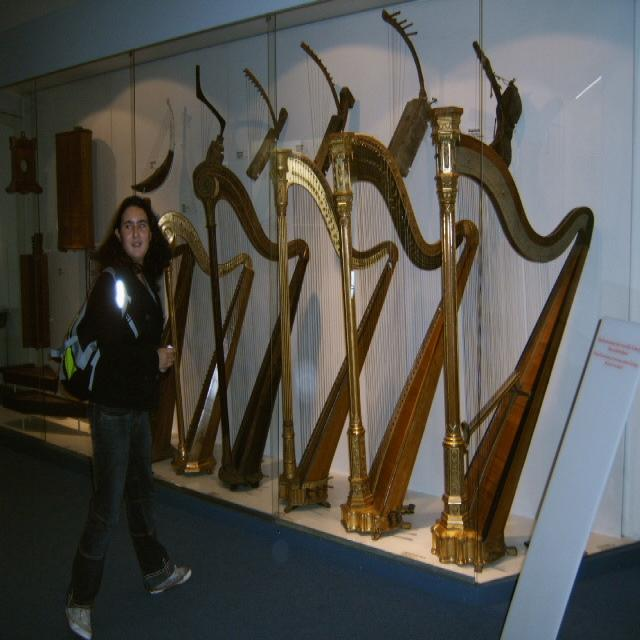harp: (421, 108, 599, 570), (320, 128, 483, 535), (260, 143, 404, 512), (192, 150, 310, 486), (147, 210, 255, 468), (378, 9, 432, 172), (298, 37, 356, 172), (468, 39, 524, 166), (231, 66, 290, 172), (130, 95, 183, 194), (182, 67, 230, 159)
